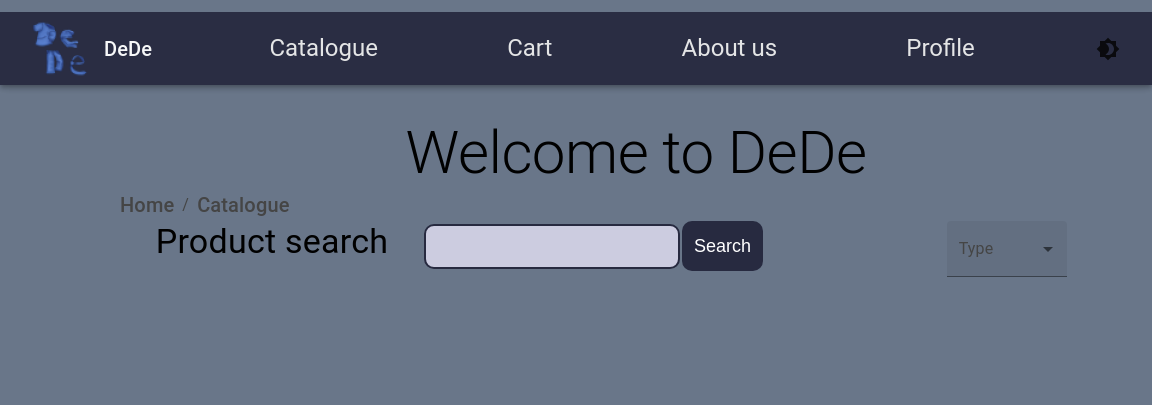
Test: clicking on the cart button takes you to the shopping cart
Click the button with aria-label "show 0new notifications".
click(530, 48)  # box x1=495 y1=20 x2=564 y2=76
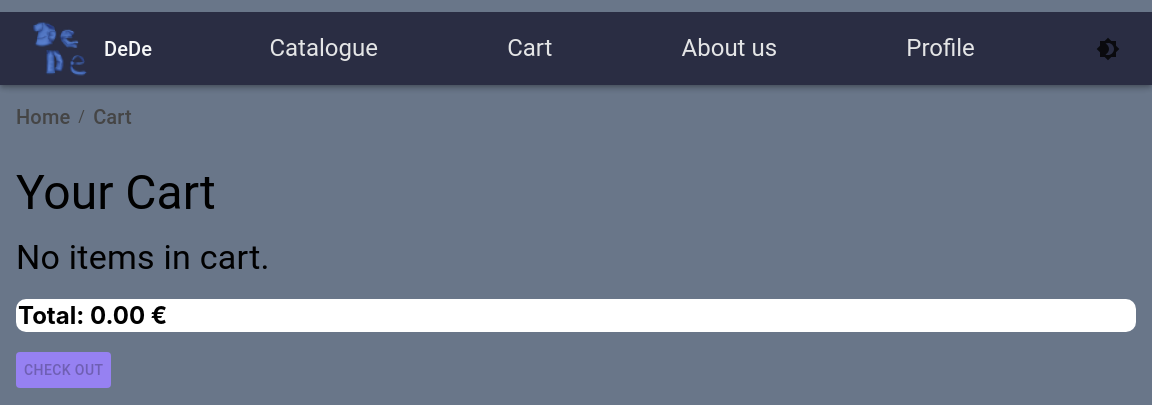
expect the heading "Your Cart" is shown: met, box x1=16 y1=164 x2=216 y2=221
